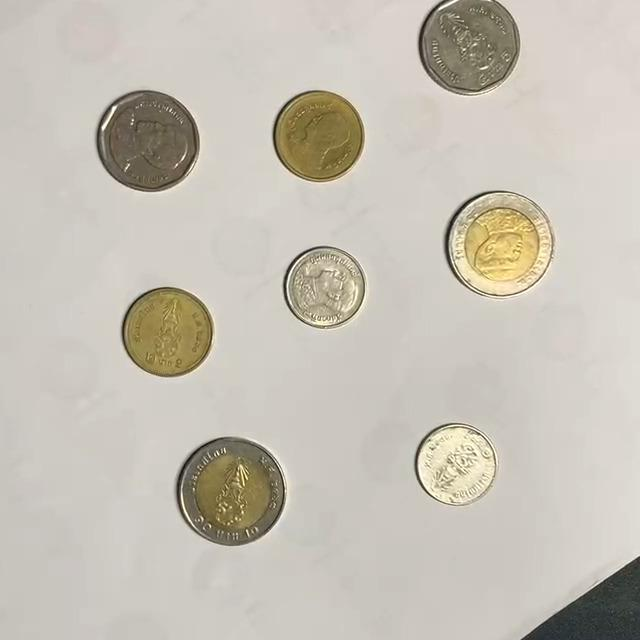1-baht: (416, 423, 502, 507), (284, 246, 369, 330)
10-baht: (177, 437, 288, 546), (447, 191, 554, 297)
2-baht: (122, 287, 215, 378), (274, 91, 366, 182)
5-baht: (98, 91, 201, 192), (419, 0, 523, 96)
